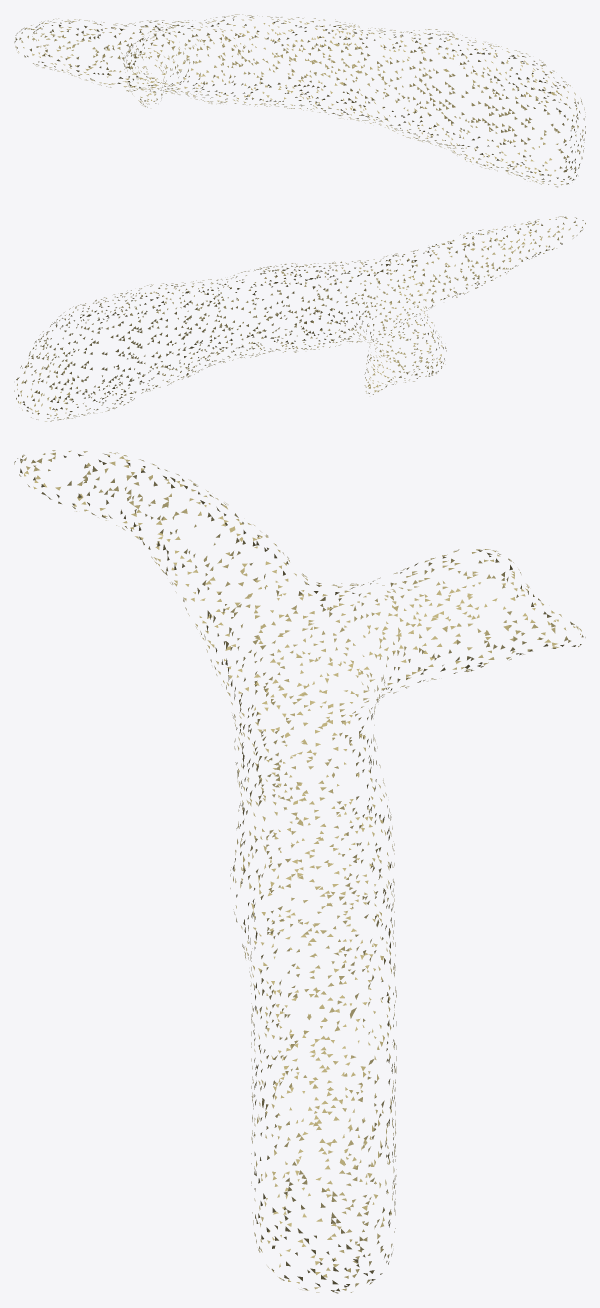
The model's file is morph_008.glb.
3 renders of one model, top to bottom at view 1: azimuth 30°, elevation 25°; view 2: azimuth 150°, elevation 25°; view 3: azimuth 270°, elevation 25°, orthographic. The views are drawn at different scales.
Bounding box in the file's own units: 121 × 63.03 × 70.44.
